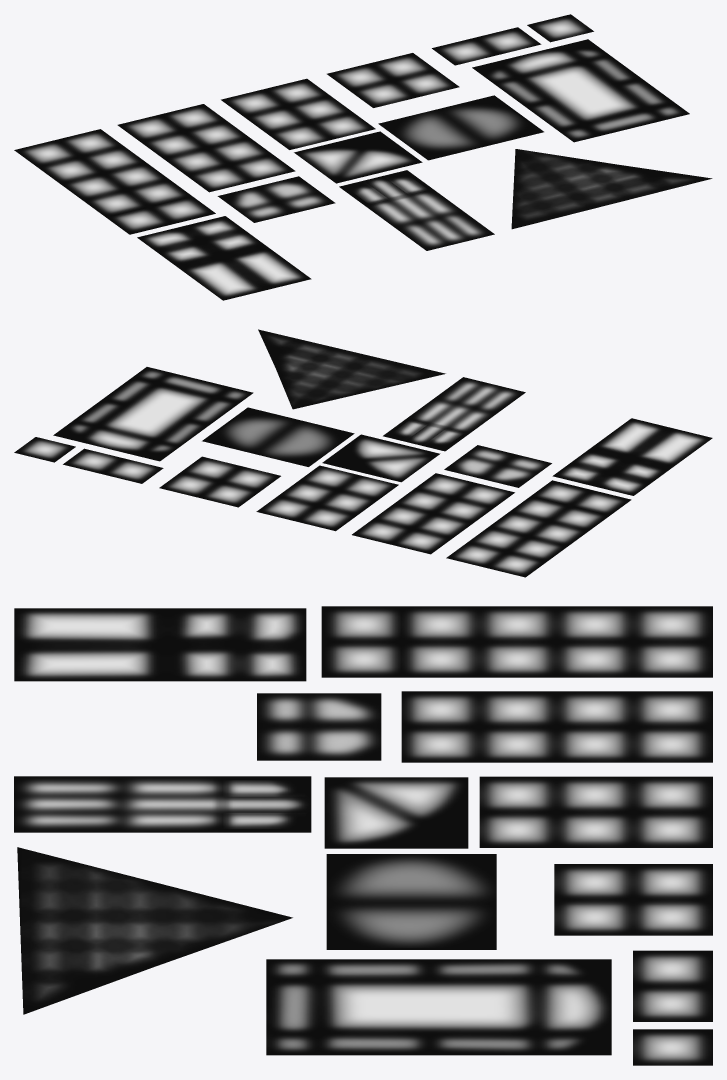
File: WinEms.FBX
3 renders of one model, top to bottom at view 1: azimuth 30°, elevation 25°; view 2: azimuth 150°, elevation 25°; view 3: azimuth 270°, elevation 25°, orthographic. The views are drawn at different scales.
Visible parts, largest first — view 1: WinEms11, WinEms10, WinEmsTri, WinEms08, WinEms06a, WinEms06b, WinEms06, WinEmsSph, WinEms04, WinEmsSph01, WinEms04a, WinEms02 (+1 smaller); view 2: WinEms11, WinEms10, WinEmsTri, WinEms08, WinEms06a, WinEms06b, WinEms06, WinEmsSph, WinEms04, WinEmsSph01, WinEms04a, WinEms02 (+1 smaller); view 3: WinEms11, WinEms10, WinEmsTri, WinEms08, WinEms06a, WinEms06b, WinEms06, WinEmsSph, WinEms04, WinEmsSph01, WinEms04a, WinEms02 (+1 smaller).
Part boxes in pixels (x1,y1,x2,y2): WinEms11: (472, 39, 689, 142); WinEms10: (14, 129, 215, 234); WinEmsTri: (511, 149, 712, 229); WinEms08: (117, 104, 295, 192); WinEms06a: (137, 216, 311, 300); WinEms06b: (339, 170, 494, 250); WinEms06: (221, 78, 375, 149); WinEmsSph: (378, 95, 543, 160); WinEms04: (327, 53, 459, 107); WinEmsSph01: (294, 131, 422, 183); WinEms04a: (217, 176, 335, 222); WinEms02: (432, 27, 541, 65); WinEms11: (53, 367, 253, 461); WinEms10: (446, 480, 631, 577); WinEmsTri: (258, 329, 445, 409); WinEms08: (352, 473, 514, 554); WinEms06a: (552, 418, 712, 495); WinEms06b: (383, 377, 525, 451); WinEms06: (256, 465, 398, 531); WinEmsSph: (202, 407, 354, 466); WinEms04: (159, 456, 280, 507); WinEmsSph01: (322, 434, 440, 482); WinEms04a: (444, 445, 551, 487); WinEms02: (63, 448, 163, 483); WinEms11: (266, 959, 611, 1055); WinEms10: (321, 606, 712, 677); WinEmsTri: (17, 847, 292, 1014); WinEms08: (401, 691, 712, 762); WinEms06a: (14, 608, 306, 681); WinEms06b: (14, 776, 311, 832); WinEms06: (479, 776, 712, 847); WinEmsSph: (326, 854, 496, 949); WinEms04: (554, 864, 712, 935); WinEmsSph01: (324, 777, 468, 848); WinEms04a: (257, 693, 381, 760); WinEms02: (633, 950, 712, 1021).
Bounding box in the file's own units: 155 × 3.41e-15 × 99.41.
